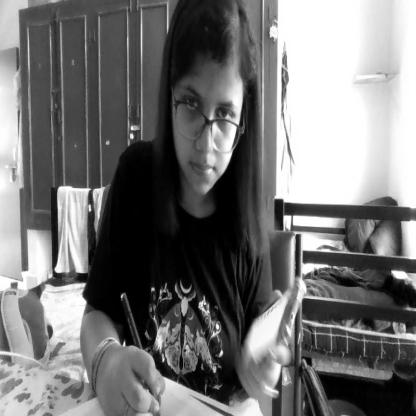Normal: (166, 0, 252, 201)
